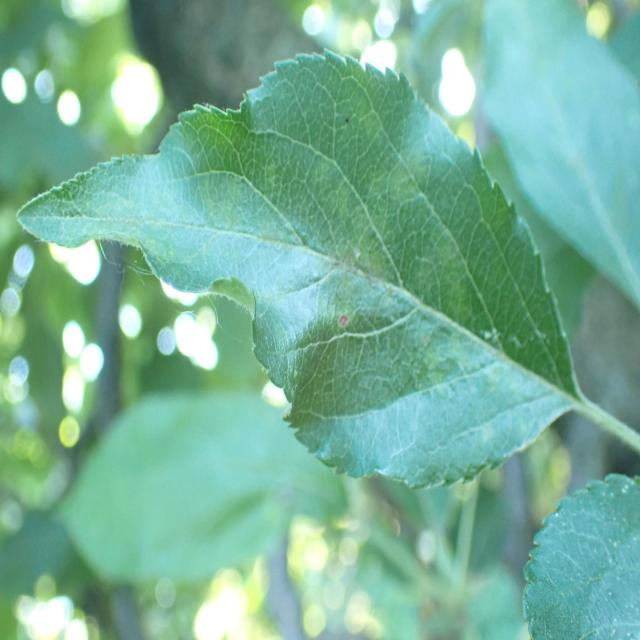scab: (62, 72, 562, 399)
